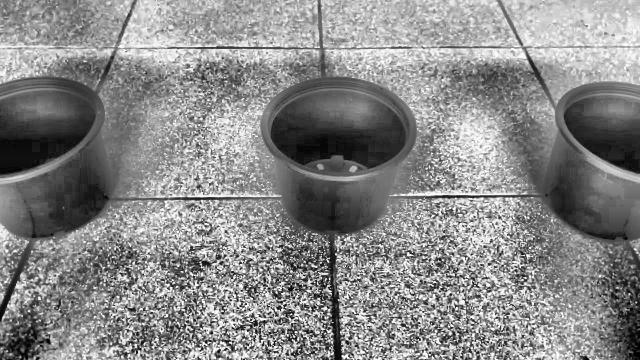pot: (260, 77, 418, 234), (0, 77, 114, 240), (541, 82, 640, 241)
